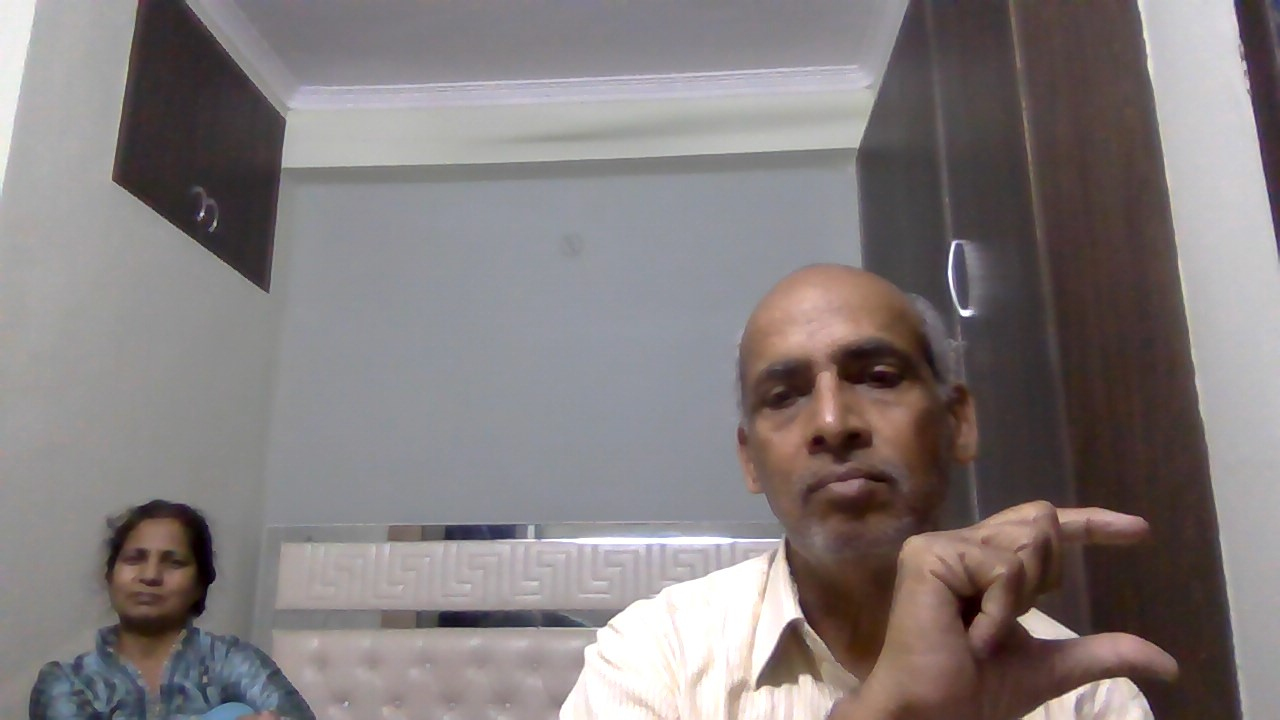Paste: (852, 476, 1208, 720)
